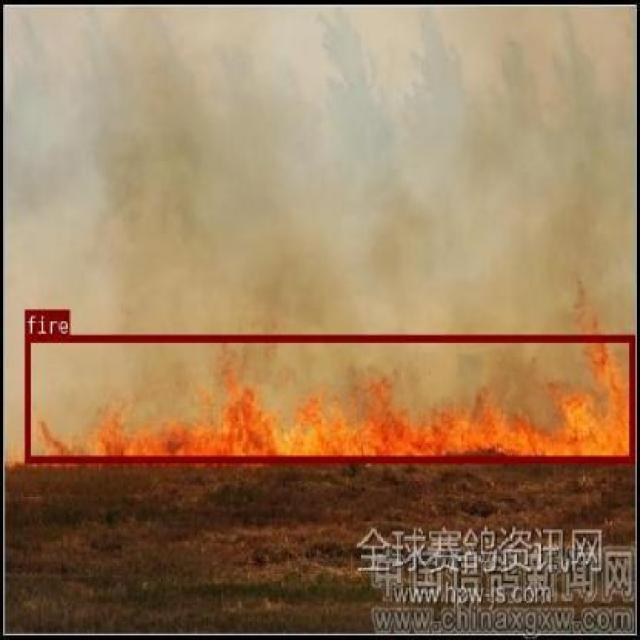Fire: (23, 334, 634, 462)
Smoke: (38, 24, 620, 298)
